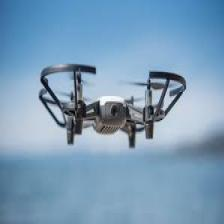drone: (39, 63, 186, 144)
